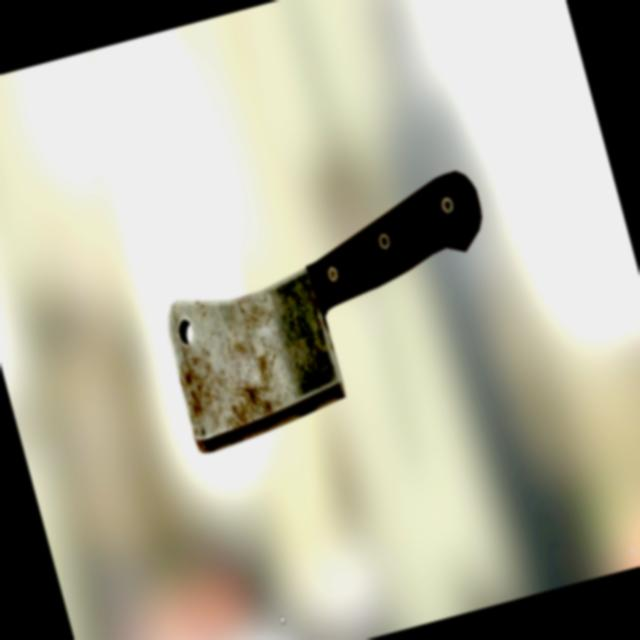cleaver: (142, 161, 526, 460)
